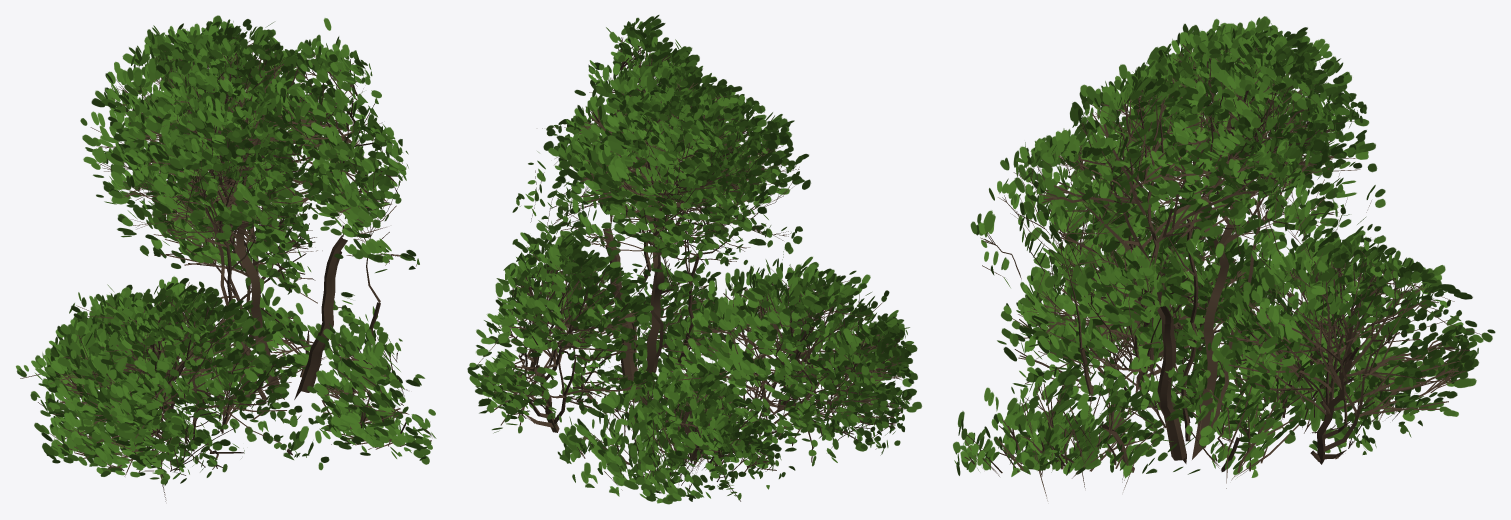
3 renders of one model, left to right at view 1: azimuth 30°, elevation 25°; view 2: azimuth 150°, elevation 25°; view 3: azimuth 270°, elevation 25°, orthographic. The views are drawn at different scales.
Visible parts, largest first — view 1: oak 01.001_trunk_Mat.001_0.377; view 2: oak 01.001_trunk_Mat.001_0.377; view 3: oak 01.001_trunk_Mat.001_0.377.
Part boxes in pixels (x1,y1,x2,y2): oak 01.001_trunk_Mat.001_0.377: (16, 15, 436, 501); oak 01.001_trunk_Mat.001_0.377: (467, 15, 922, 504); oak 01.001_trunk_Mat.001_0.377: (953, 16, 1495, 500).
Size of the model in its own units: 2.83 by 3.22 by 3.68.
Materials: 2 (1 with a texture image).
